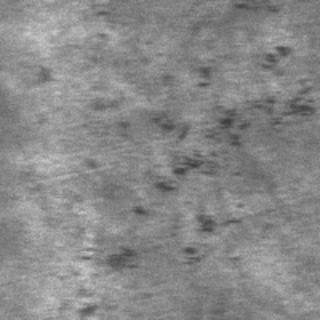rolled pit: (99, 92, 307, 272)
